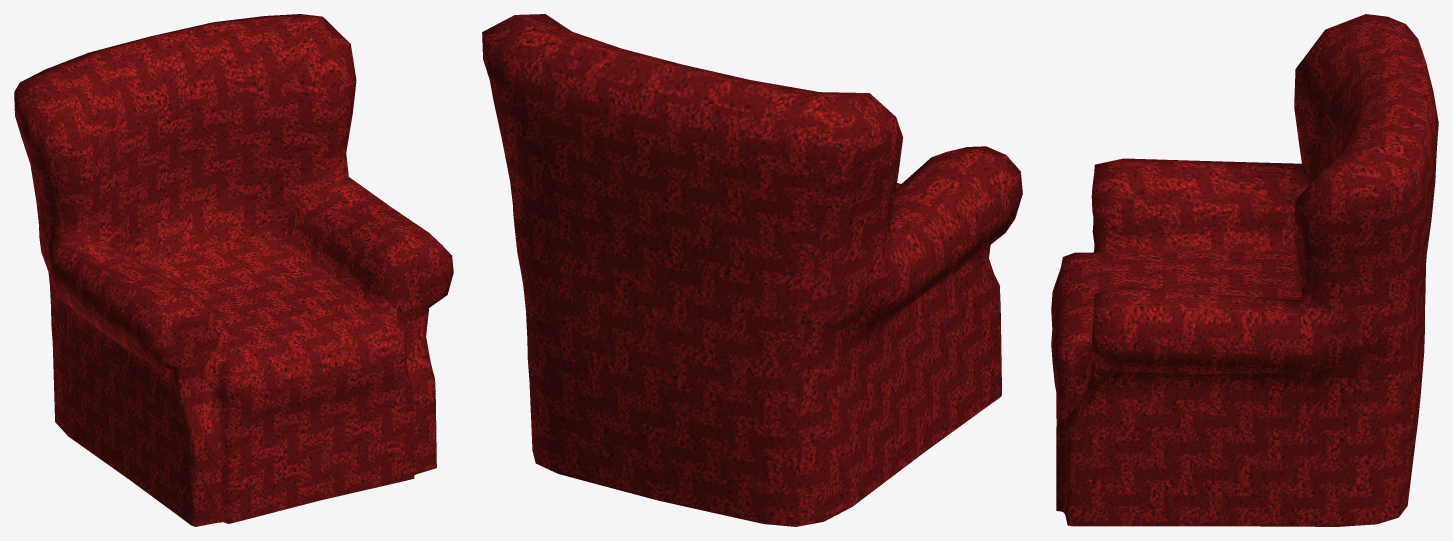
The model's file is redarmchair.fbx.
3 views of the same model, side by side, from view 1: azimuth 30°, elevation 25°; view 2: azimuth 150°, elevation 25°; view 3: azimuth 270°, elevation 25° (orthographic). The views are drawn at different scales.
Visible parts, largest first — view 1: Armchair; view 2: Armchair; view 3: Armchair.
Part boxes in pixels (x1,y1,x2,y2): Armchair: (14, 14, 453, 526); Armchair: (482, 14, 1022, 526); Armchair: (1051, 14, 1438, 526).
Size of the model in its own units: 138 by 144 by 133.
1 material, 1 textured.
